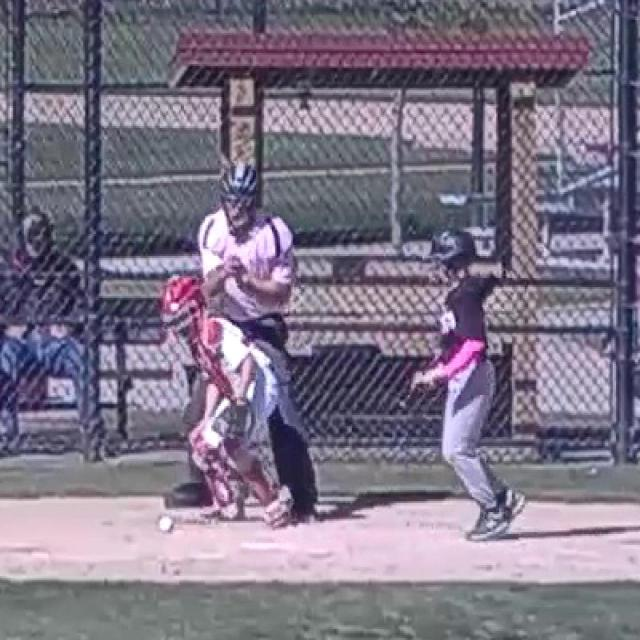baseball: (160, 516, 172, 531)
